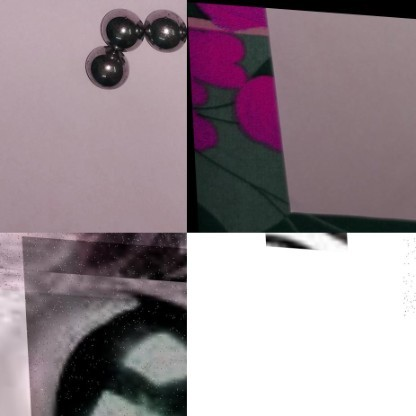ironball: (53, 295, 186, 413), (80, 39, 129, 90), (141, 5, 186, 56), (98, 2, 142, 49)
